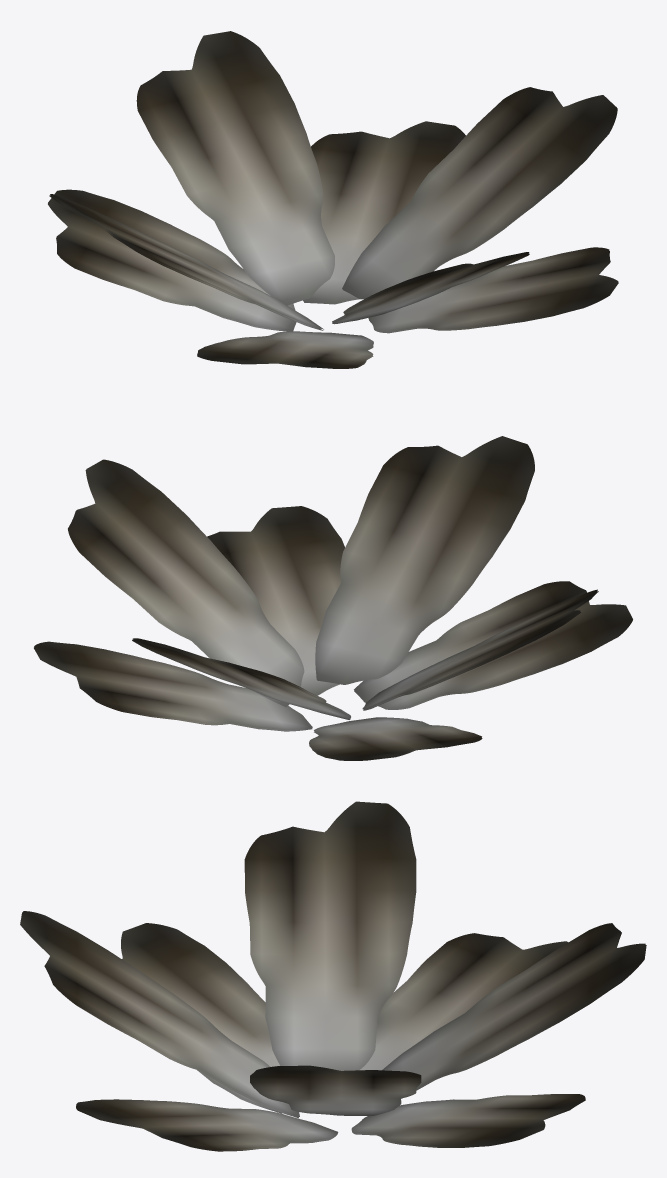
The model's file is prop_feathers.dae.
3 views of the same model, one above another, from view 1: azimuth 30°, elevation 25°; view 2: azimuth 150°, elevation 25°; view 3: azimuth 270°, elevation 25° (orthographic). The views are drawn at different scales.
Visible parts, largest first — view 1: a_prop_feathers; view 2: a_prop_feathers; view 3: a_prop_feathers.
Part boxes in pixels (x1=…): a_prop_feathers: x1=48, y1=31, x2=618, y2=368; a_prop_feathers: x1=34, y1=436, x2=632, y2=760; a_prop_feathers: x1=20, y1=801, x2=646, y2=1151.
Bounding box in the file's own units: 0.7886 × 0.788 × 0.2596.
